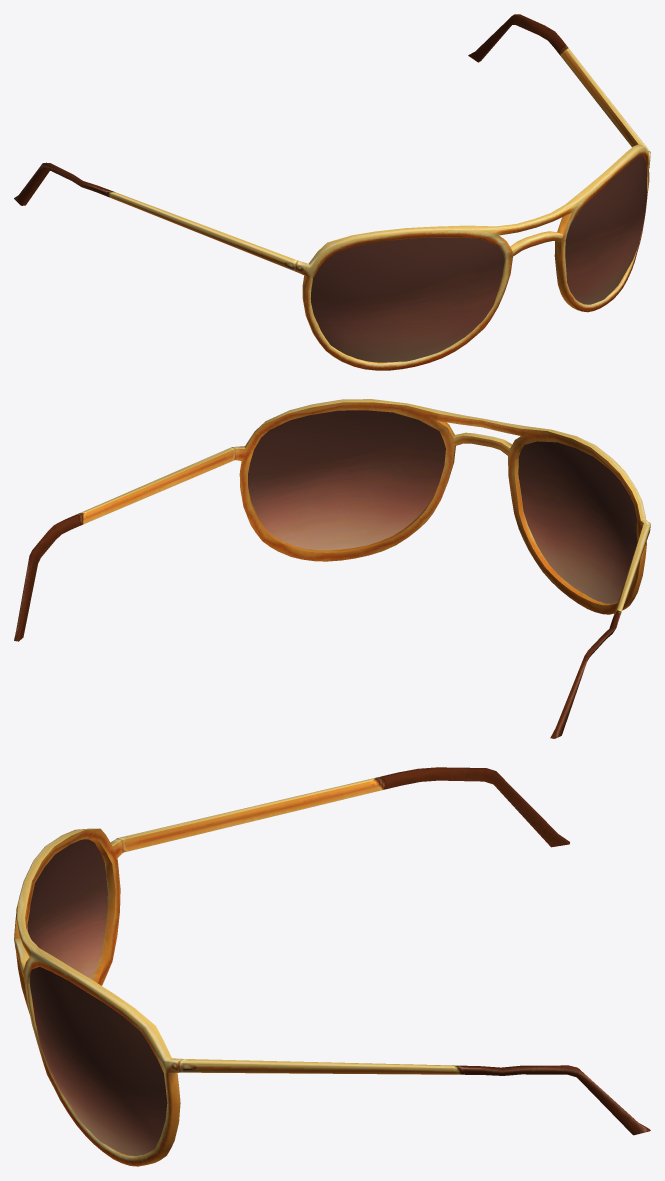
File: spec3.fbx
3 views of the same model, one above another, from view 1: azimuth 30°, elevation 25°; view 2: azimuth 150°, elevation 25°; view 3: azimuth 270°, elevation 25° (orthographic). The views are drawn at different scales.
Visible parts, largest first — view 1: node_id81, node_id79; view 2: node_id81, node_id79; view 3: node_id81, node_id79.
Part boxes in pixels (left/top/right/bottom): node_id81: left=310, top=155, right=647, bottom=362; node_id79: left=14, top=14, right=650, bottom=370; node_id81: left=248, top=410, right=637, bottom=603; node_id79: left=14, top=399, right=650, bottom=738; node_id81: left=27, top=839, right=167, bottom=1155; node_id79: left=14, top=767, right=650, bottom=1166.
Size of the model in its own units: 0.4706 by 0.1275 by 0.4167.
Materials: 2 (2 with a texture image).
